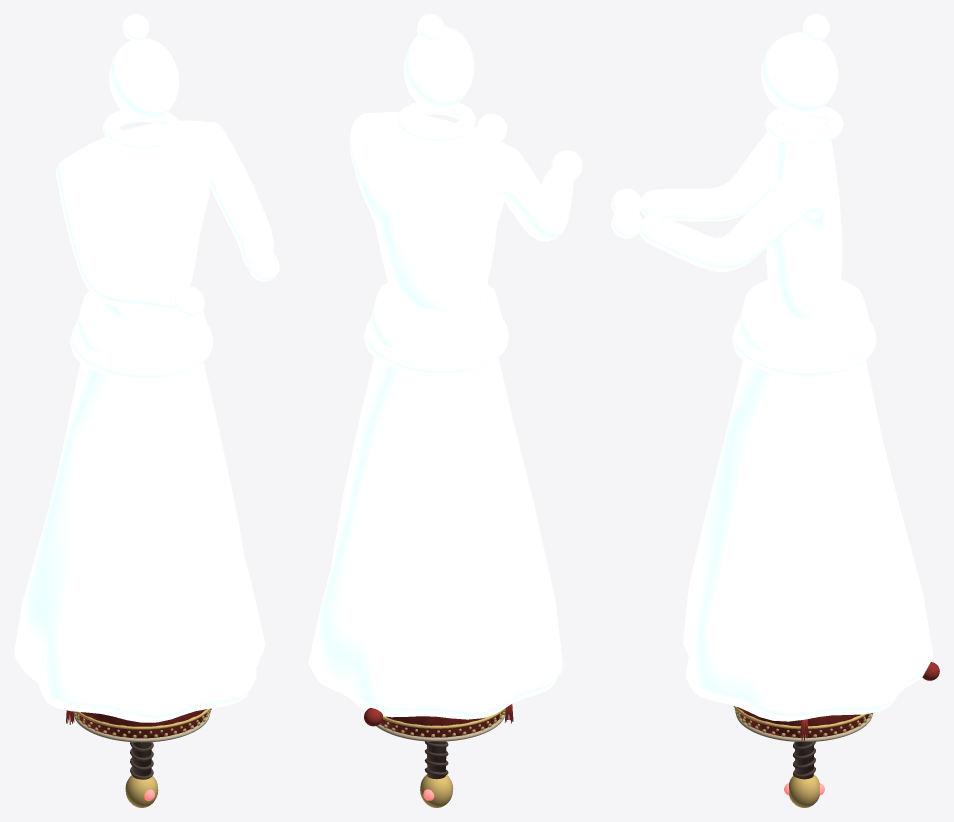
Rendered from drum.glb.
3 renders of one model, left to right at view 1: azimuth 30°, elevation 25°; view 2: azimuth 150°, elevation 25°; view 3: azimuth 270°, elevation 25°, orthographic.
Visible parts, largest first — view 1: ghost, drum, giant_sword; view 2: ghost, drum, giant_sword; view 3: ghost, drum, giant_sword.
Part boxes in pixels (x1=…): ghost: x1=14, y1=14, x2=279, y2=722; drum: x1=66, y1=708, x2=211, y2=742; giant_sword: x1=125, y1=742, x2=158, y2=807; ghost: x1=308, y1=14, x2=582, y2=719; drum: x1=376, y1=704, x2=513, y2=741; giant_sword: x1=420, y1=741, x2=453, y2=807; ghost: x1=611, y1=14, x2=933, y2=721; drum: x1=733, y1=706, x2=872, y2=741; giant_sword: x1=784, y1=741, x2=824, y2=807.
Size of the model in its own units: 0.642 by 2.21 by 0.8332.
